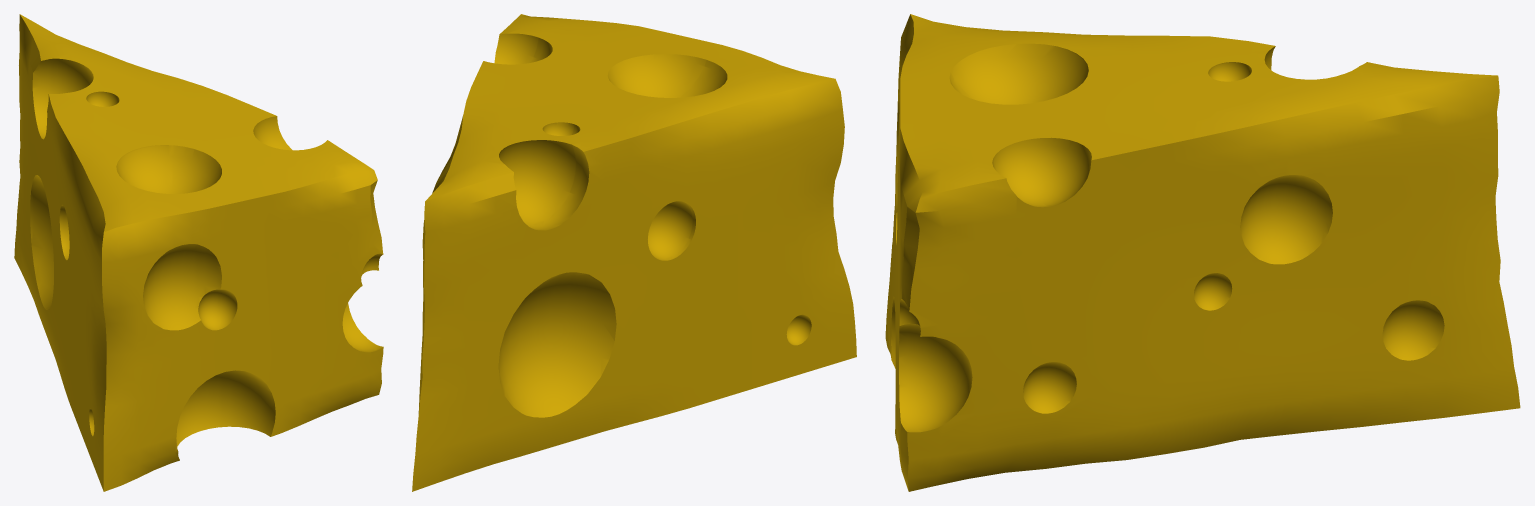
The model's file is cheese.glb.
The picture shows the model from 3 angles, left to right: view 1: azimuth 30°, elevation 25°; view 2: azimuth 150°, elevation 25°; view 3: azimuth 270°, elevation 25°; orthographic projection. The views are drawn at different scales.
Visible parts, largest first — view 1: Cheese; view 2: Cheese; view 3: Cheese.
Boxes of the visible parts, x1,y1,x2,y2 form: Cheese: (14, 14, 383, 491); Cheese: (412, 14, 856, 491); Cheese: (885, 14, 1520, 491).
Bounding box in the file's own units: 0.6926 × 0.6222 × 1.
1 material, 1 textured.
